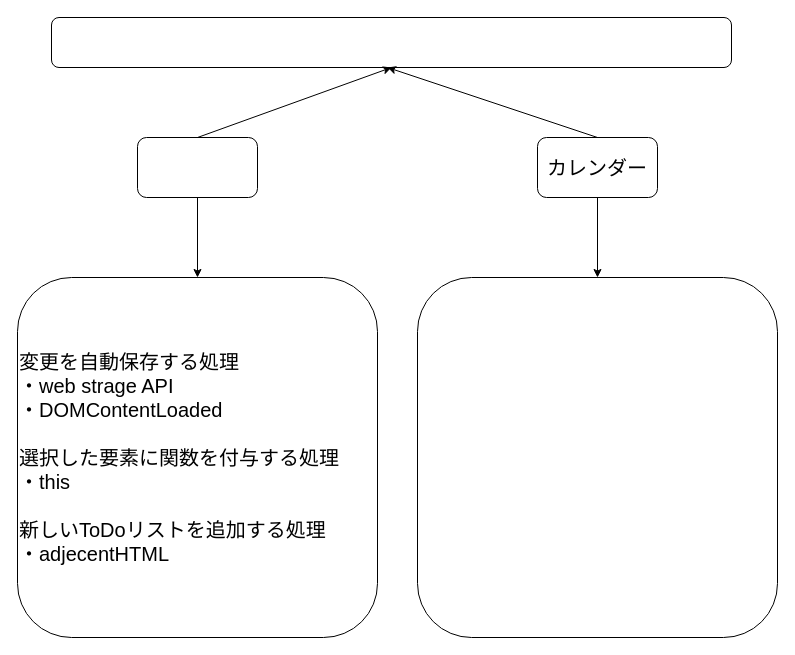
This 795x655 diagram has some shape labels left out. Here are the shapes that lost their labels. From the top down, the centre of each, then its label:
At (x=391, y=42): "ToDoリストからカレンダーへDrag and Dropして予定を組み立てるアプリ".
At (x=197, y=167): "ToDoリスト".
